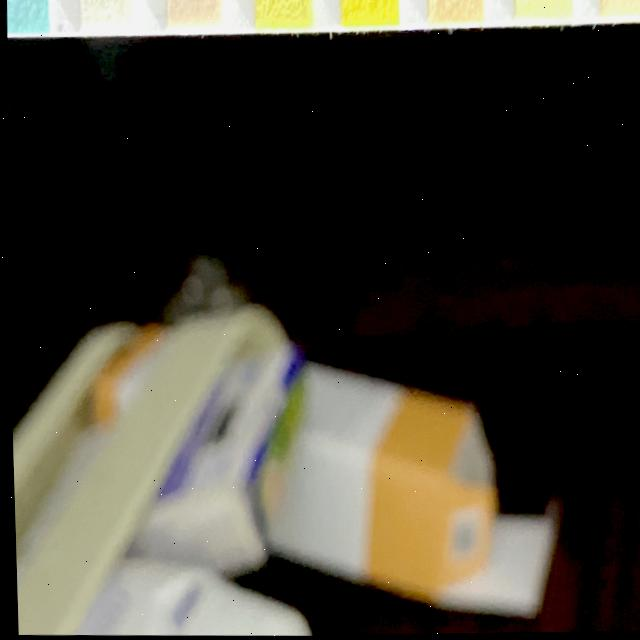Bilirubin: (80, 0, 135, 33)
Blood: (341, 0, 397, 27)
Glucose: (5, 0, 49, 35)
Ketone: (166, 0, 222, 30)
Protein: (514, 0, 571, 25)
SpGravity: (253, 0, 312, 31)
Urobilinogen: (599, 0, 640, 21)
pH: (427, 0, 482, 27)
